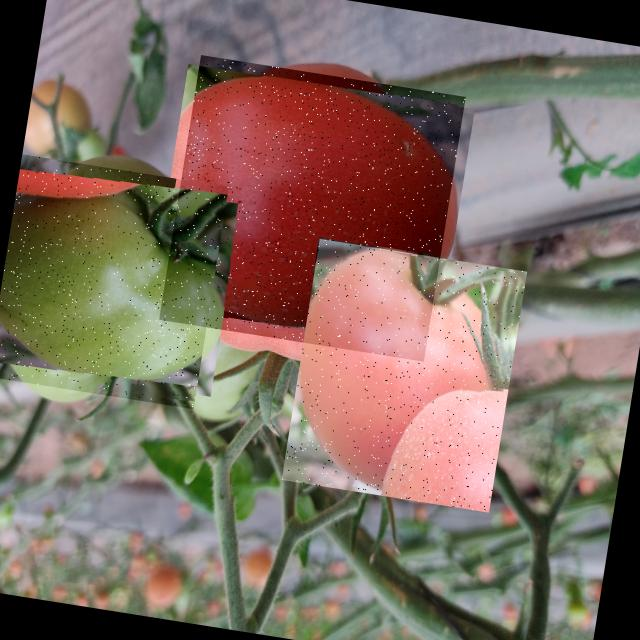Ripe Tomato: (159, 55, 466, 362), (282, 239, 528, 513)
Unripe Tomato: (0, 154, 229, 409)
